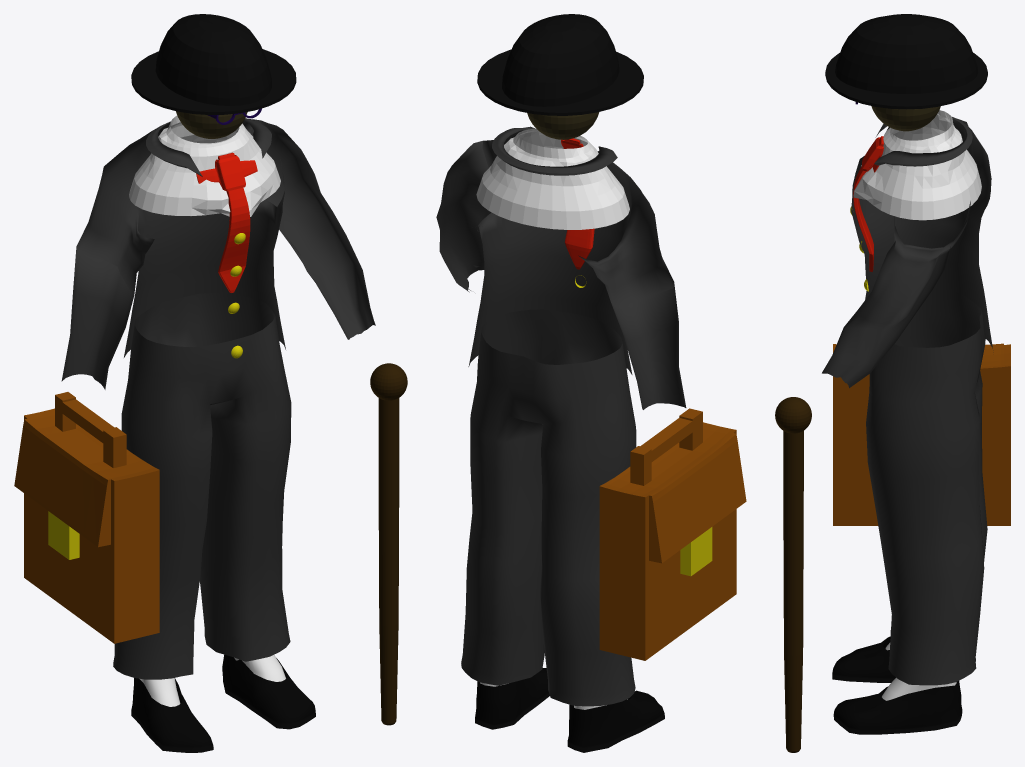
Rendered from Diplomat.dae.
The picture shows the model from 3 angles, left to right: view 1: azimuth 30°, elevation 25°; view 2: azimuth 150°, elevation 25°; view 3: azimuth 270°, elevation 25°; orthographic projection. The views are drawn at different scales.
Parts seen in each view (by area): view 1: pants, jacket, case, hat, shirt, cane, shoe_left, tie, shoe_right, Sphere, case_lock, sock_right (+1 smaller); view 2: pants, jacket, case, hat, shirt, shoe_right, shoe_left, Sphere, case_lock, tie; view 3: pants, jacket, hat, case, shirt, cane, shoe_left, shoe_right, Sphere, tie, sock_left.
Part boxes in pixels (x1,y1,x2,y2): pants: [113, 293, 291, 679]; jacket: [61, 118, 375, 389]; case: [14, 392, 159, 643]; hat: [131, 14, 296, 114]; shirt: [129, 115, 280, 216]; cane: [370, 363, 407, 725]; shoe_left: [222, 654, 315, 729]; tie: [196, 152, 257, 292]; shoe_right: [131, 678, 213, 752]; Sphere: [176, 111, 247, 138]; case_lock: [48, 511, 79, 559]; sock_right: [139, 678, 180, 706]; pants: [461, 309, 636, 706]; jacket: [436, 126, 686, 409]; case: [599, 408, 746, 660]; hat: [477, 14, 643, 115]; shirt: [476, 128, 629, 229]; shoe_right: [567, 690, 664, 752]; shoe_left: [475, 668, 549, 729]; Sphere: [527, 112, 599, 139]; case_lock: [680, 527, 712, 576]; tie: [561, 138, 594, 269]; pants: [866, 288, 987, 685]; jacket: [822, 117, 993, 388]; hat: [825, 14, 987, 109]; case: [833, 343, 1010, 525]; shirt: [853, 110, 981, 220]; cane: [775, 397, 811, 752]; shoe_left: [833, 681, 962, 734]; shoe_right: [832, 636, 895, 682]; Sphere: [871, 106, 940, 131]; tie: [853, 136, 883, 271]; sock_left: [882, 677, 956, 700].
Bounding box in the file's own units: 0.8466 × 0.6192 × 1.96.
